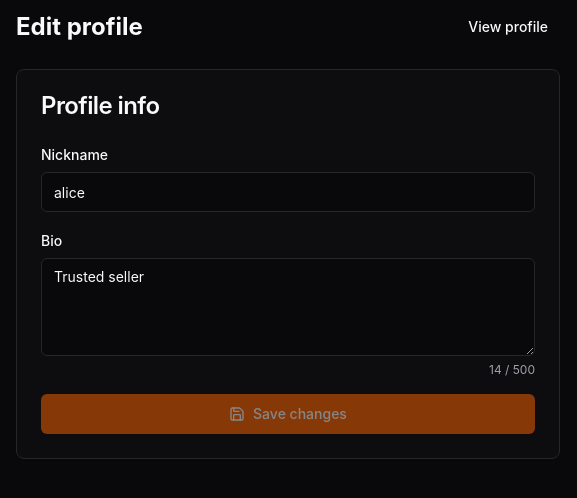
Scenario: EditProfilePage — validation › shows error for too short nickname
The image size is (577, 498).
Replace the text in the field labelled "Nickname" with "ab" at (288, 192), box [41,172,535,212]
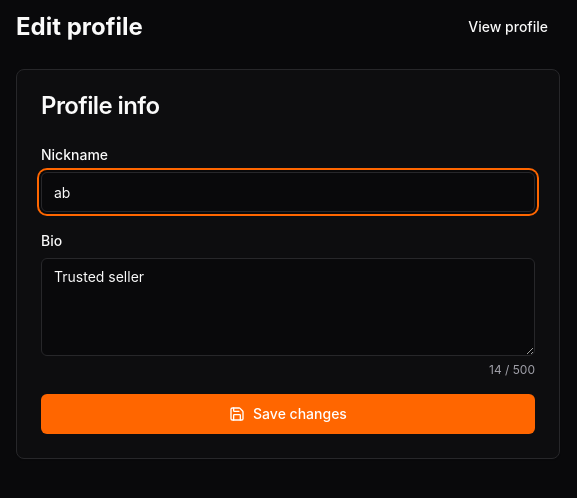
Click the button "Save changes" at (288, 414), box [41,394,535,434]
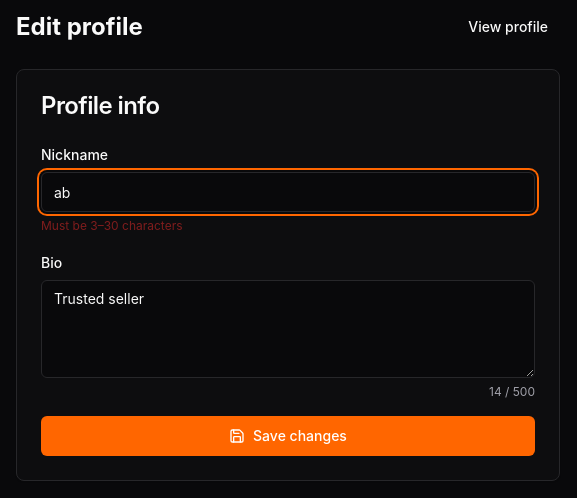
Expected: the text "Must be 3–30 characters" is shown, [41,218,182,233]
